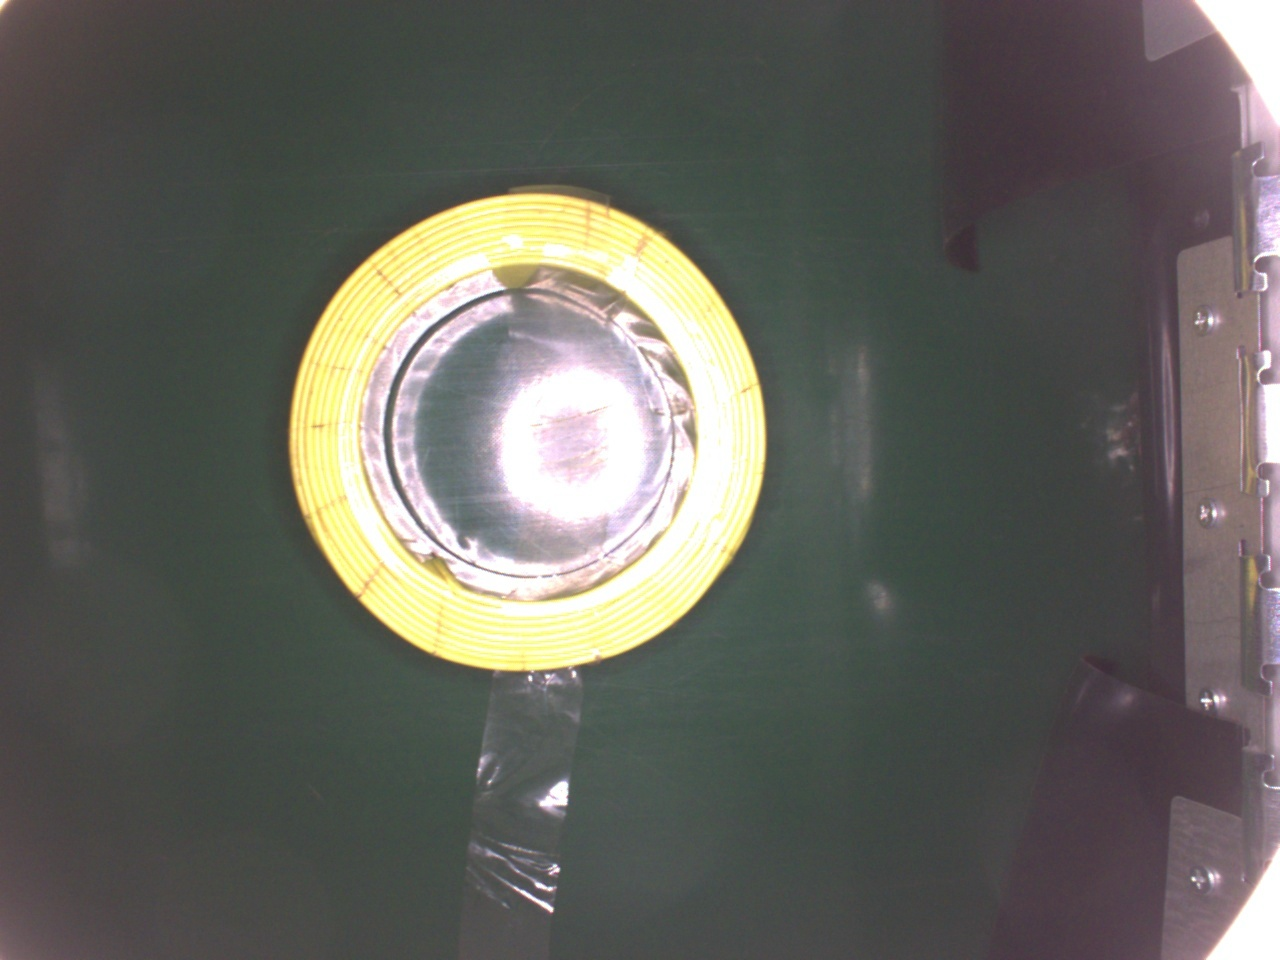yellow: (288, 181, 768, 668)
